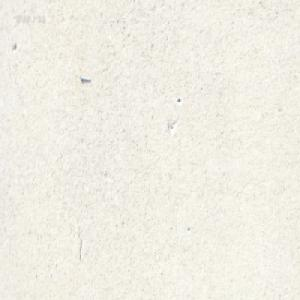Nail: (78, 73, 91, 82)
